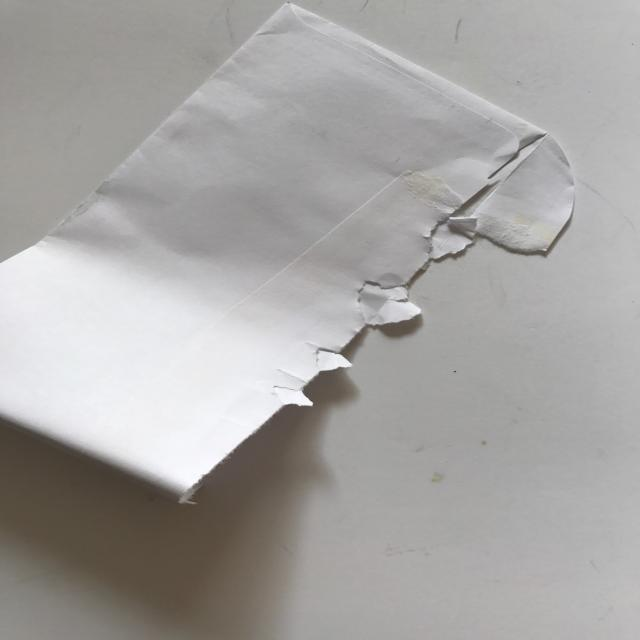paper: (1, 2, 576, 504)
